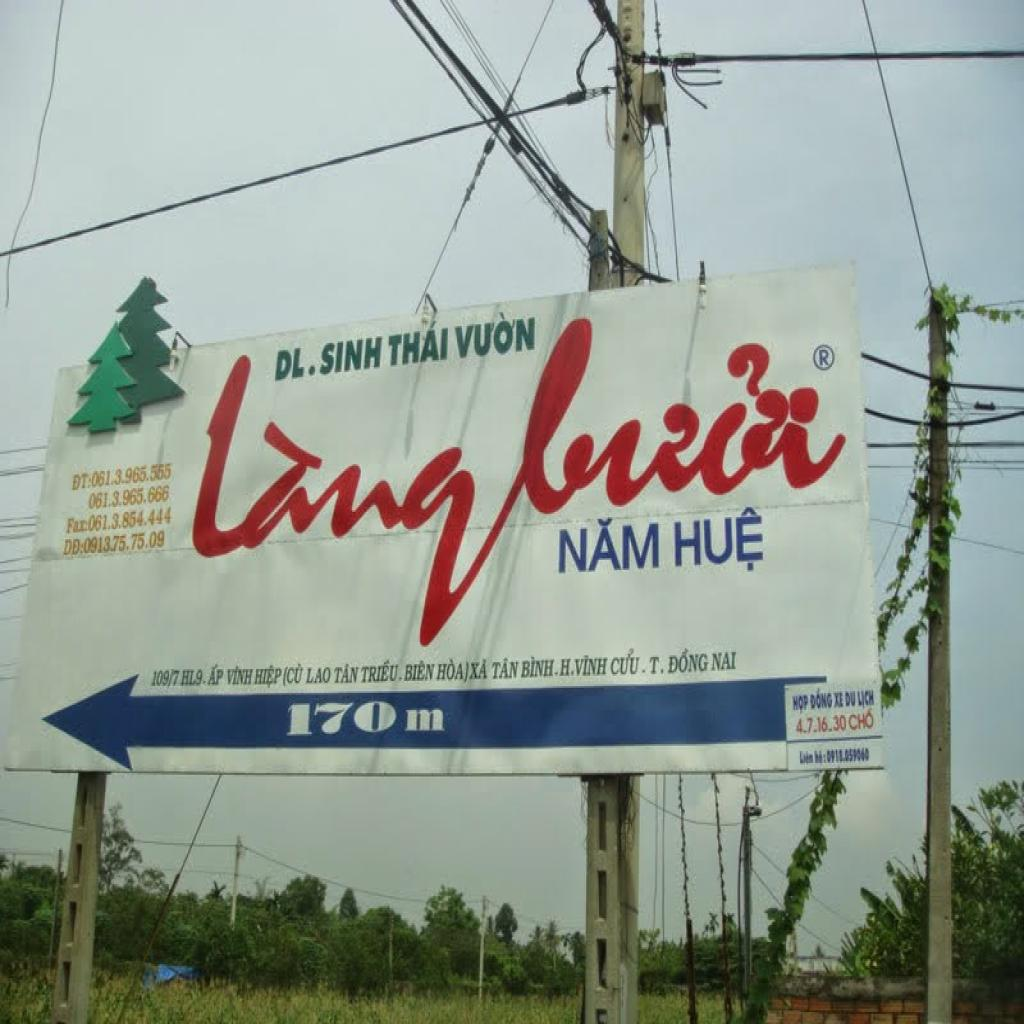text: (172, 342, 488, 656), (483, 309, 865, 522), (278, 693, 450, 749), (554, 509, 666, 580), (674, 496, 766, 576), (450, 304, 538, 363), (386, 317, 452, 372), (319, 331, 384, 379), (90, 459, 176, 492), (84, 527, 168, 558), (87, 505, 173, 534), (87, 483, 173, 510), (273, 341, 320, 386), (609, 645, 649, 679), (796, 714, 850, 738), (668, 645, 710, 674), (361, 659, 403, 684), (520, 655, 559, 681), (435, 657, 471, 684), (574, 654, 610, 679), (491, 655, 521, 683), (847, 708, 877, 734), (404, 658, 436, 682), (253, 664, 283, 689), (226, 664, 254, 689), (710, 649, 738, 674), (283, 660, 306, 690), (151, 668, 182, 690), (809, 686, 835, 712), (180, 666, 208, 690), (333, 662, 361, 686), (70, 468, 94, 493), (307, 666, 333, 688), (468, 657, 490, 683), (61, 536, 86, 558), (814, 343, 833, 370), (208, 662, 226, 690), (648, 654, 668, 678), (856, 688, 877, 710), (65, 516, 90, 534), (560, 656, 578, 680), (791, 693, 810, 715), (799, 748, 815, 766), (844, 688, 858, 708), (832, 691, 846, 710), (814, 748, 828, 766)
